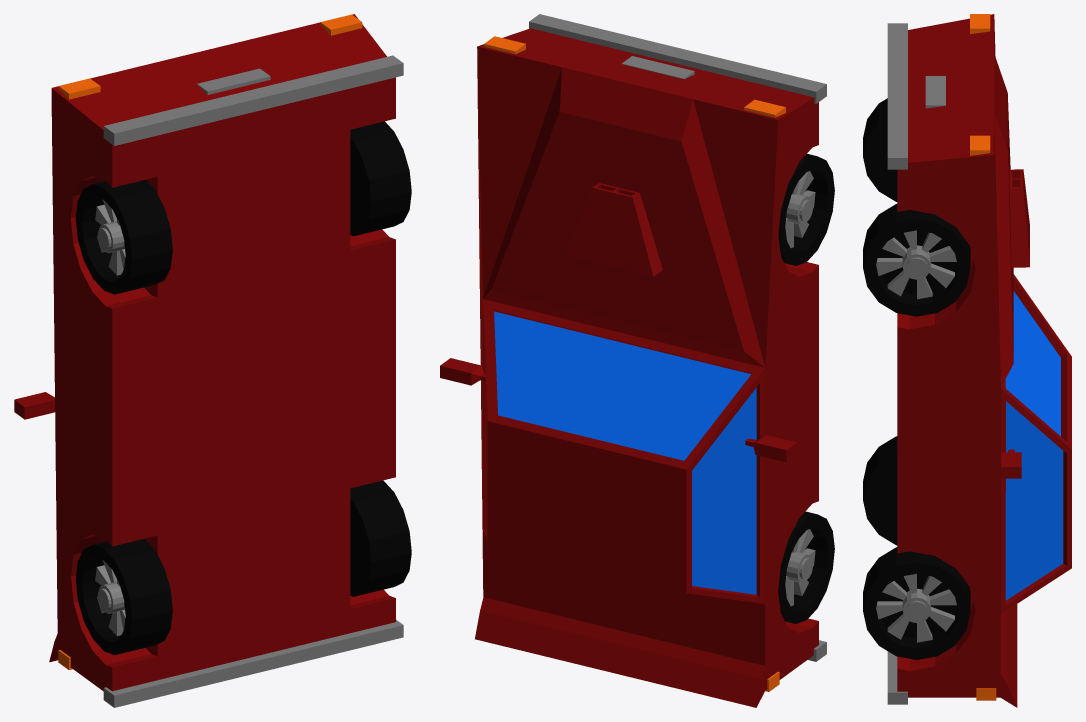
Rendered from carro de corrida1.fbx.
3 views of the same model, side by side, from view 1: azimuth 30°, elevation 25°; view 2: azimuth 150°, elevation 25°; view 3: azimuth 270°, elevation 25° (orthographic). The views are drawn at different scales.
Visible parts, largest first — view 1: carroceria; view 2: carroceria; view 3: carroceria.
Boxes of the visible parts, left/top/right/bottom form: carroceria: left=14, top=14, right=411, bottom=707; carroceria: left=440, top=14, right=834, bottom=707; carroceria: left=863, top=14, right=1071, bottom=707.
Size of the model in its own units: 209 by 336 by 114.
